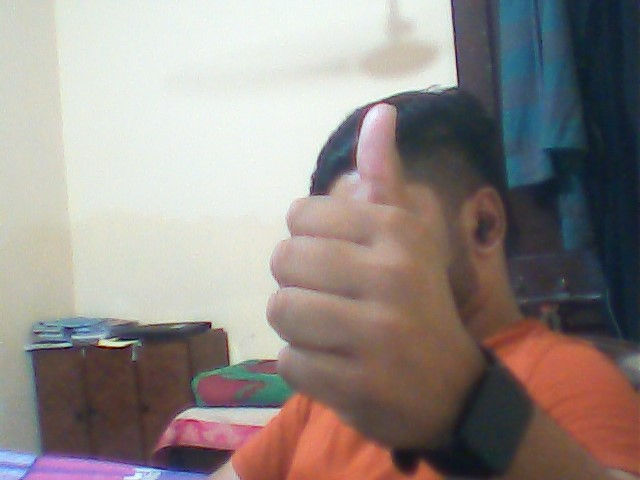Thanks: (263, 95, 537, 420)
